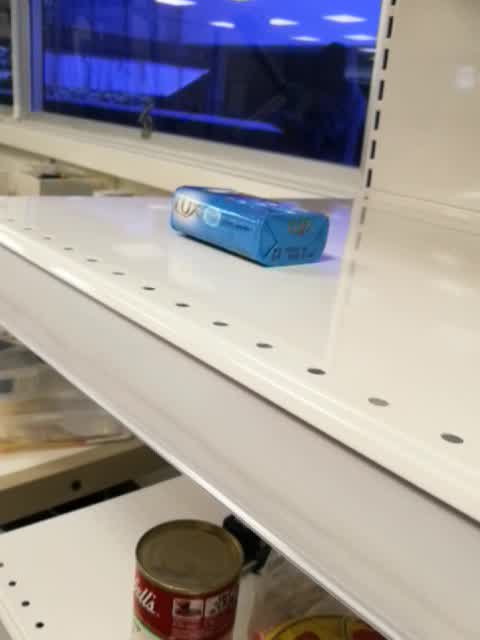soap: (169, 185, 330, 269)
